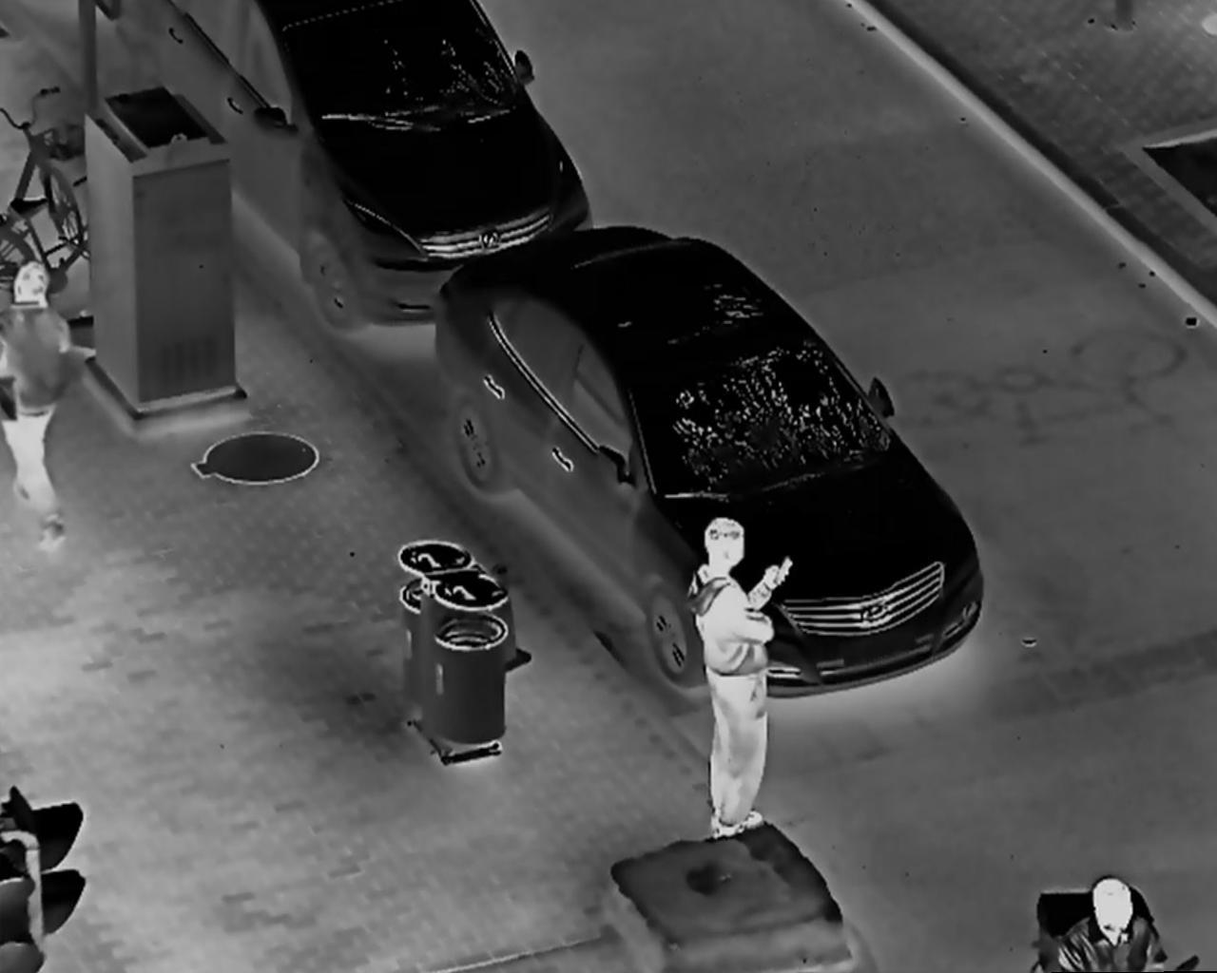person: (675, 508, 785, 841), (1041, 869, 1172, 973)
